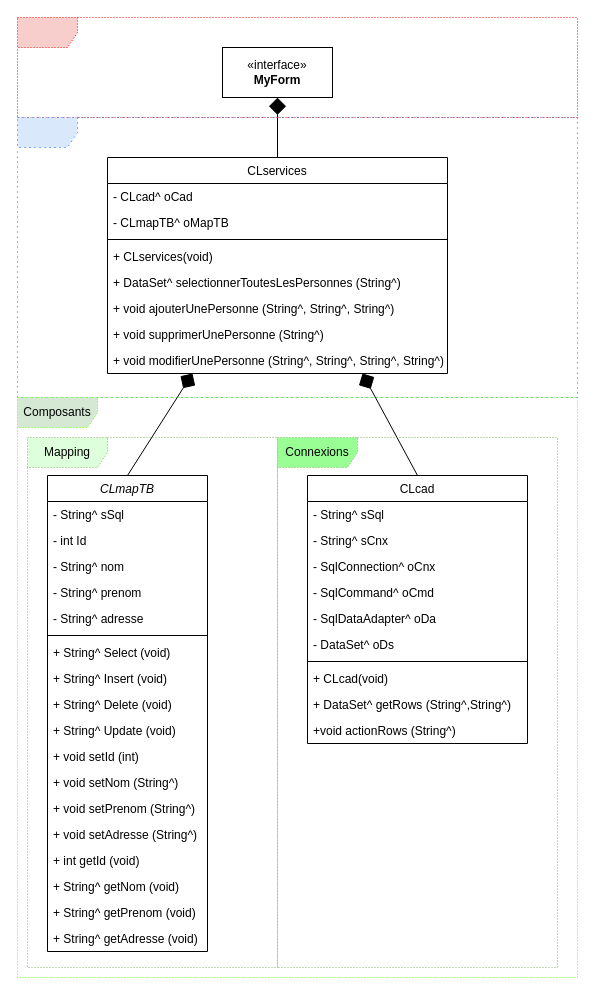
The diagram is 595 pixels wide and 995 high, and some of its shapes have lost their labels. The shapes that lost their labels are listed below. From the top down, each one's centre as x and y in pixels, then its label:
the point at 297,67: HCI
the point at 297,257: Services
